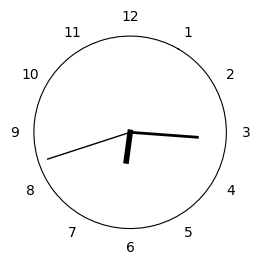12: (122, 10, 139, 23)
circle: (33, 36, 226, 229)
hours: (123, 129, 133, 165)
minutes: (132, 131, 199, 139)
seconds: (47, 133, 127, 160)
